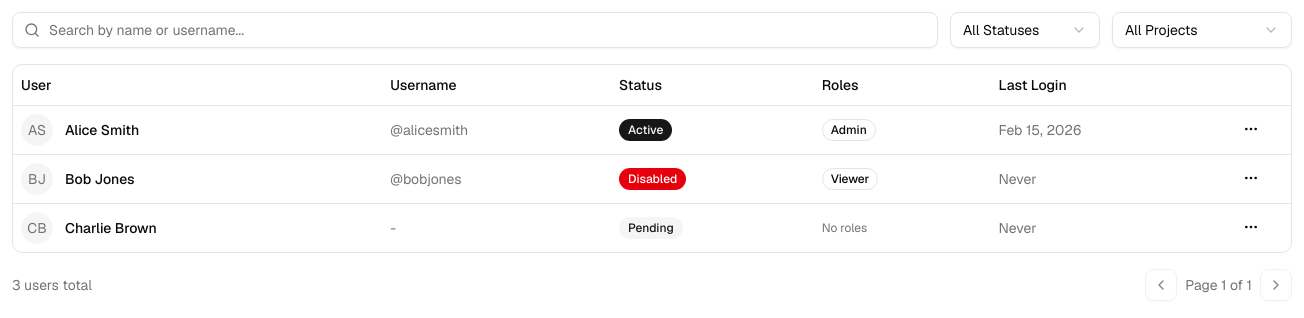
Test case: UsersTable › filters users by username search
This screenshot has width=1304, height=318.
Type "bobjones" into the field with placeholder "Search by name or username...".
click(475, 30); type("bobjones")  # box [12, 12, 938, 48]
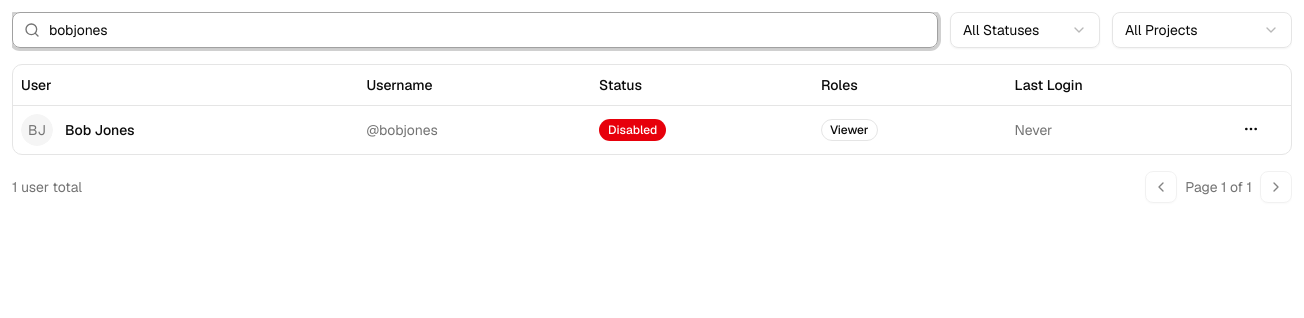
expect the text "Bob Jones" is shown: met, box [65, 120, 135, 140]
expect the text "Alice Smith" is gone: met
